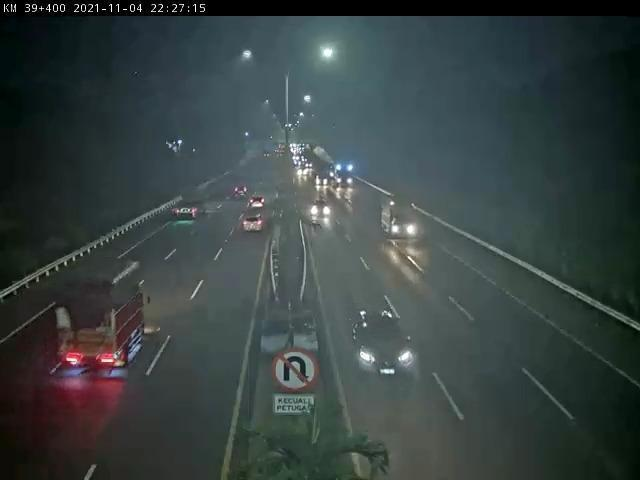car: (351, 306, 415, 377), (242, 216, 265, 234), (311, 198, 332, 217), (249, 195, 265, 212), (233, 187, 249, 200)
truck: (56, 257, 146, 374), (381, 196, 419, 239), (172, 184, 208, 218)
